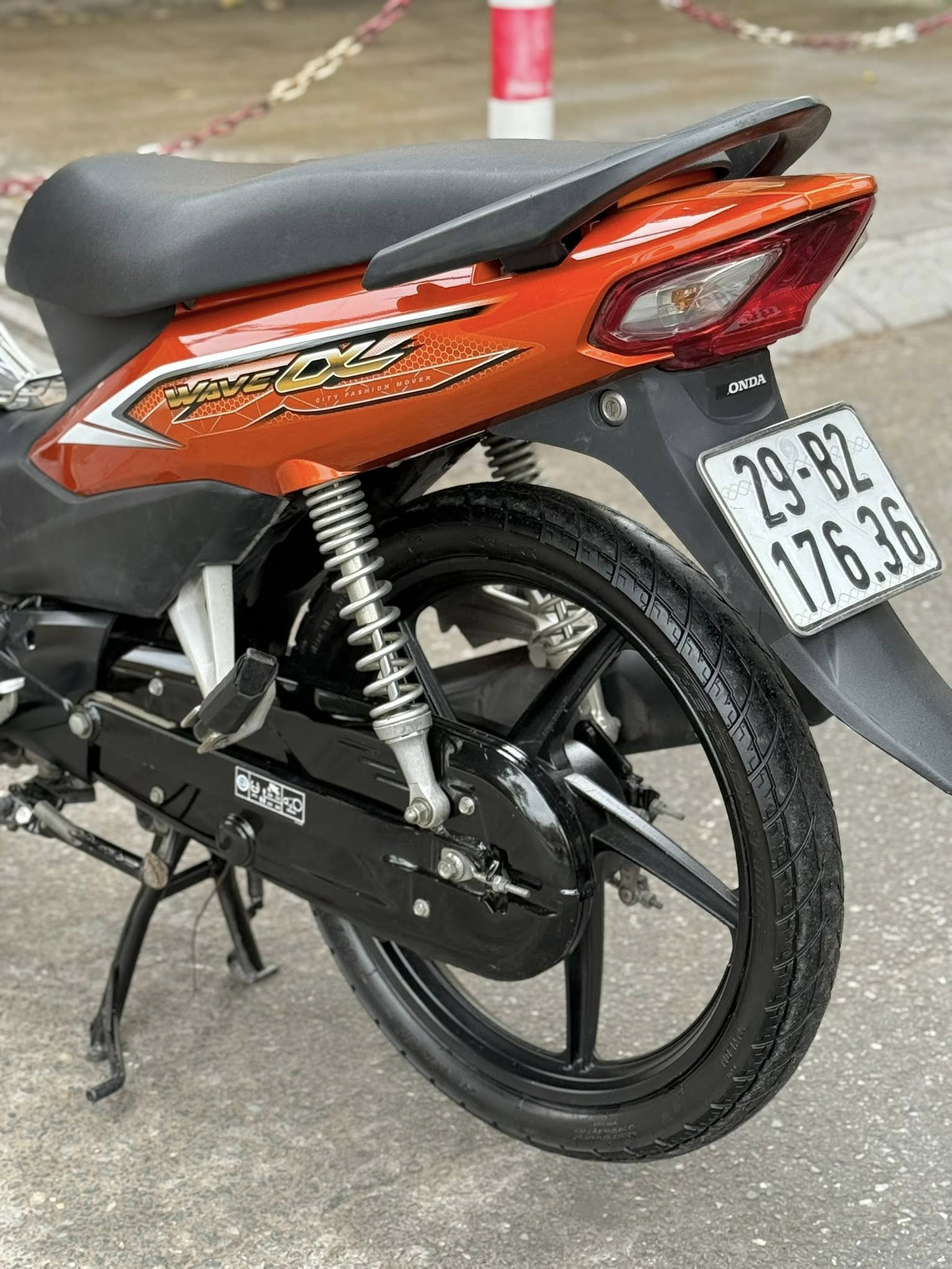bien_so: (684, 394, 941, 646)
